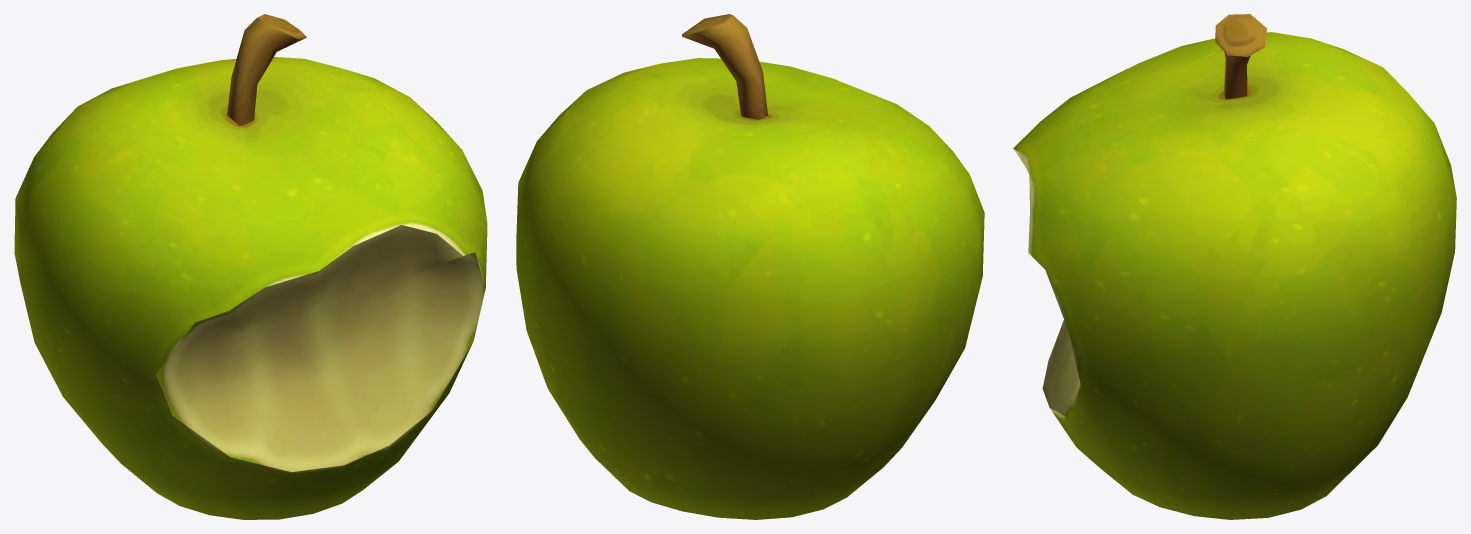
The model's file is SM_AppleGreenBite.fbx.
The picture shows the model from 3 angles, left to right: view 1: azimuth 30°, elevation 25°; view 2: azimuth 150°, elevation 25°; view 3: azimuth 270°, elevation 25°; orthographic projection. The views are drawn at different scales.
Parts seen in each view (by area): view 1: SM_AppleGreenBite; view 2: SM_AppleGreenBite; view 3: SM_AppleGreenBite.
Boxes of the visible parts, bbox=[...] form: SM_AppleGreenBite: bbox=[14, 14, 487, 519]; SM_AppleGreenBite: bbox=[516, 14, 984, 519]; SM_AppleGreenBite: bbox=[1013, 14, 1456, 519].
Bounding box in the file's own units: 13.11 × 14.11 × 12.03.
